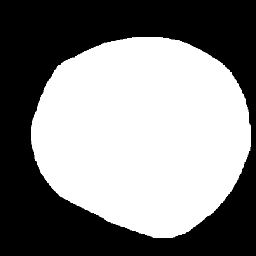mass: (36, 36, 219, 231)
